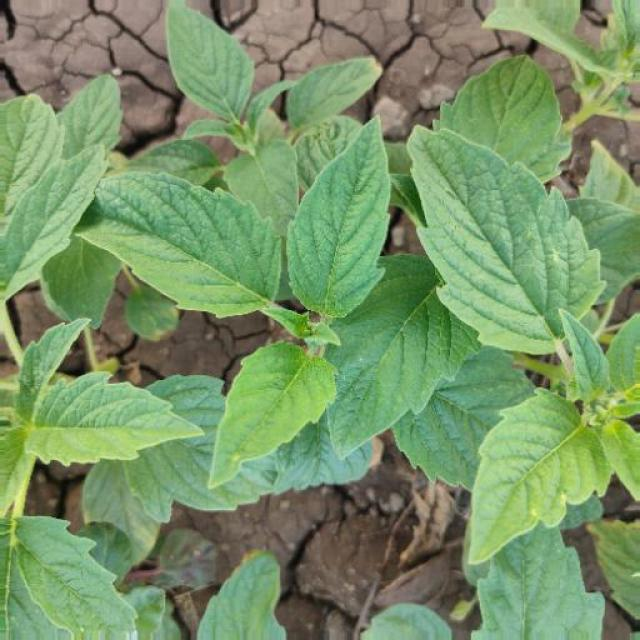crop: (13, 1, 632, 634)
